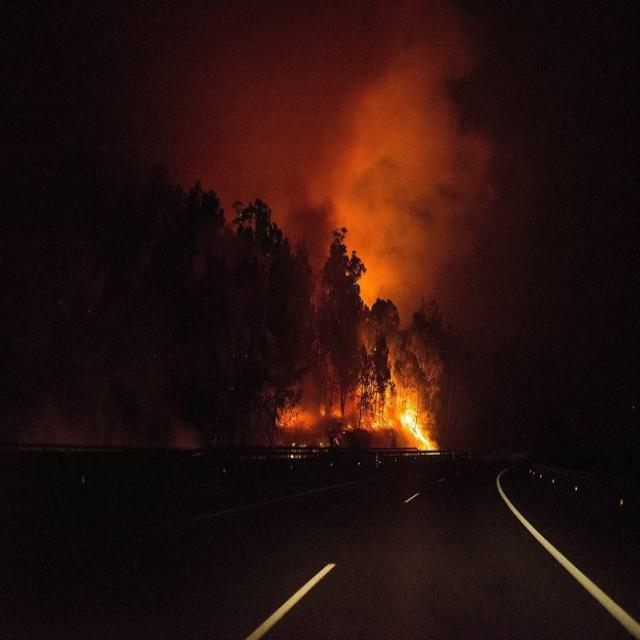Fire: (377, 388, 435, 453), (274, 400, 346, 425)
